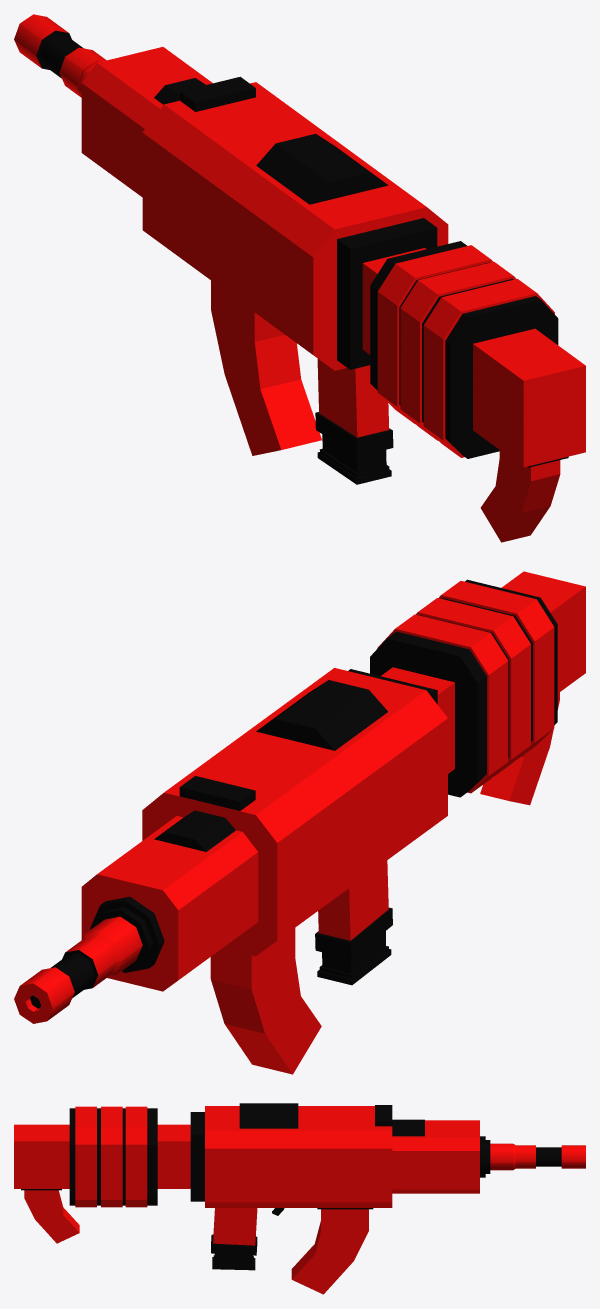
File: Rifle.obj
3 views of the same model, one above another, from view 1: azimuth 30°, elevation 25°; view 2: azimuth 150°, elevation 25°; view 3: azimuth 270°, elevation 25° (orthographic). The views are drawn at different scales.
Visible parts, largest first — view 1: Cube.009; view 2: Cube.009; view 3: Cube.009.
Part boxes in pixels (x1,y1,x2,y2): Cube.009: [14, 14, 585, 542]; Cube.009: [14, 571, 585, 1074]; Cube.009: [14, 1103, 585, 1294].
Size of the model in its own units: 0.1297 by 0.3021 by 0.8676.
